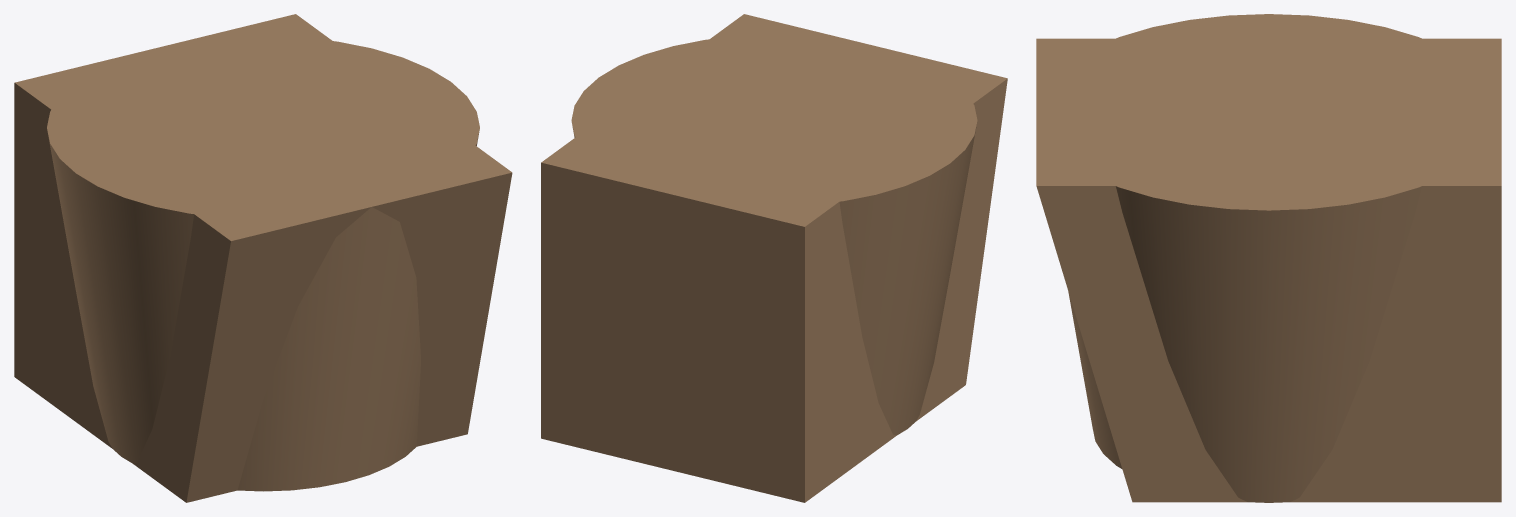
Rendered from leg.gltf.
3 views of the same model, side by side, from view 1: azimuth 30°, elevation 25°; view 2: azimuth 150°, elevation 25°; view 3: azimuth 270°, elevation 25° (orthographic). The views are drawn at different scales.
Visible parts, largest first — view 1: Leg; view 2: Leg; view 3: Leg.
Part boxes in pixels (bbox=[...]): Leg: bbox=[14, 14, 512, 502]; Leg: bbox=[541, 14, 1007, 502]; Leg: bbox=[1036, 14, 1501, 502].
Size of the model in its own units: 0.0508 by 0.0381 by 0.0508.
